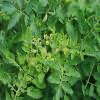Tomato leaf yellow virus: (2, 44, 14, 64), (32, 73, 47, 89), (46, 59, 61, 72), (27, 87, 43, 99), (0, 67, 10, 85), (85, 47, 99, 58), (62, 83, 73, 96), (47, 74, 61, 84), (52, 32, 59, 49), (25, 26, 33, 39), (27, 64, 34, 76), (73, 30, 78, 46), (63, 47, 69, 60), (38, 73, 45, 84), (19, 56, 26, 66), (22, 34, 29, 44), (37, 53, 43, 64), (63, 61, 72, 68), (36, 63, 43, 72), (79, 51, 85, 61), (60, 29, 65, 41), (43, 65, 49, 73), (56, 51, 61, 60), (12, 78, 17, 87), (70, 52, 75, 61), (22, 46, 28, 53), (22, 64, 27, 72), (18, 70, 22, 80), (23, 80, 27, 89), (11, 91, 15, 99), (16, 81, 20, 88), (38, 45, 43, 50)
